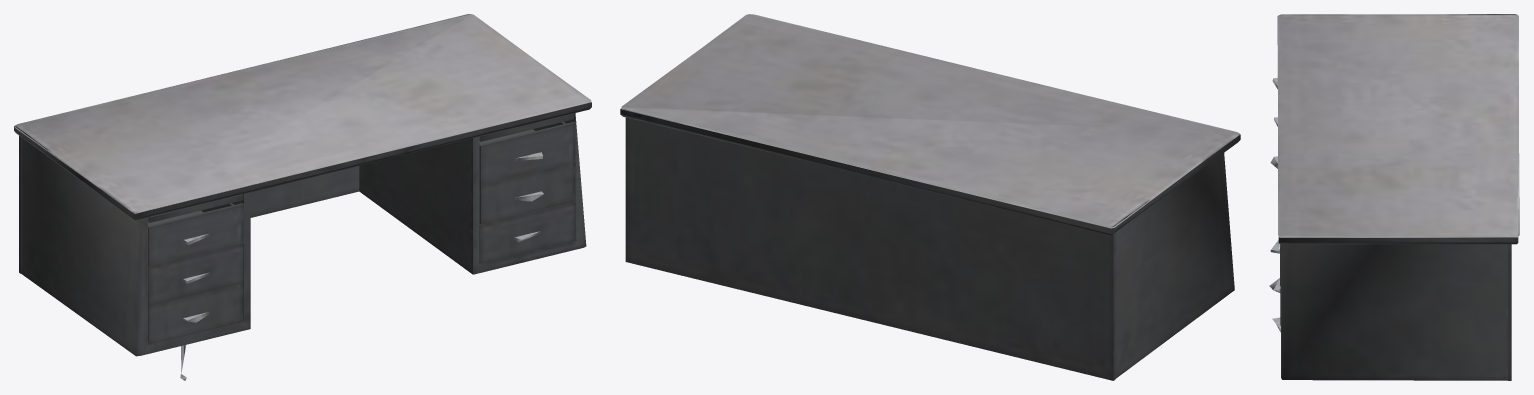
File: metal_office_desk.glb
3 renders of one model, left to right at view 1: azimuth 30°, elevation 25°; view 2: azimuth 150°, elevation 25°; view 3: azimuth 270°, elevation 25°, orthographic. The views are drawn at different scales.
Parts seen in each view (by area): view 1: metal_office_desk, metal_office_desk_drawer_01, metal_office_desk_drawer_04, metal_office_desk_drawer_02, metal_office_desk_drawer_03, metal_office_desk_drawer_06, metal_office_desk_drawer_05, metal_office_desk_tray_01, metal_office_desk_tray_02; view 2: metal_office_desk; view 3: metal_office_desk.
Boxes of the visible parts, x1=… form: metal_office_desk: x1=14, y1=14, x2=591, y2=380; metal_office_desk_drawer_01: x1=479, y1=122, x2=575, y2=184; metal_office_desk_drawer_04: x1=148, y1=203, x2=243, y2=266; metal_office_desk_drawer_02: x1=479, y1=162, x2=575, y2=224; metal_office_desk_drawer_03: x1=479, y1=201, x2=574, y2=263; metal_office_desk_drawer_06: x1=148, y1=282, x2=243, y2=344; metal_office_desk_drawer_05: x1=148, y1=243, x2=243, y2=305; metal_office_desk_tray_01: x1=148, y1=194, x2=243, y2=222; metal_office_desk_tray_02: x1=479, y1=113, x2=574, y2=141; metal_office_desk: x1=620, y1=14, x2=1240, y2=380; metal_office_desk: x1=1277, y1=14, x2=1519, y2=380.
Size of the model in its own units: 1.99 by 0.7868 by 0.9433.
1 material, 1 textured.
